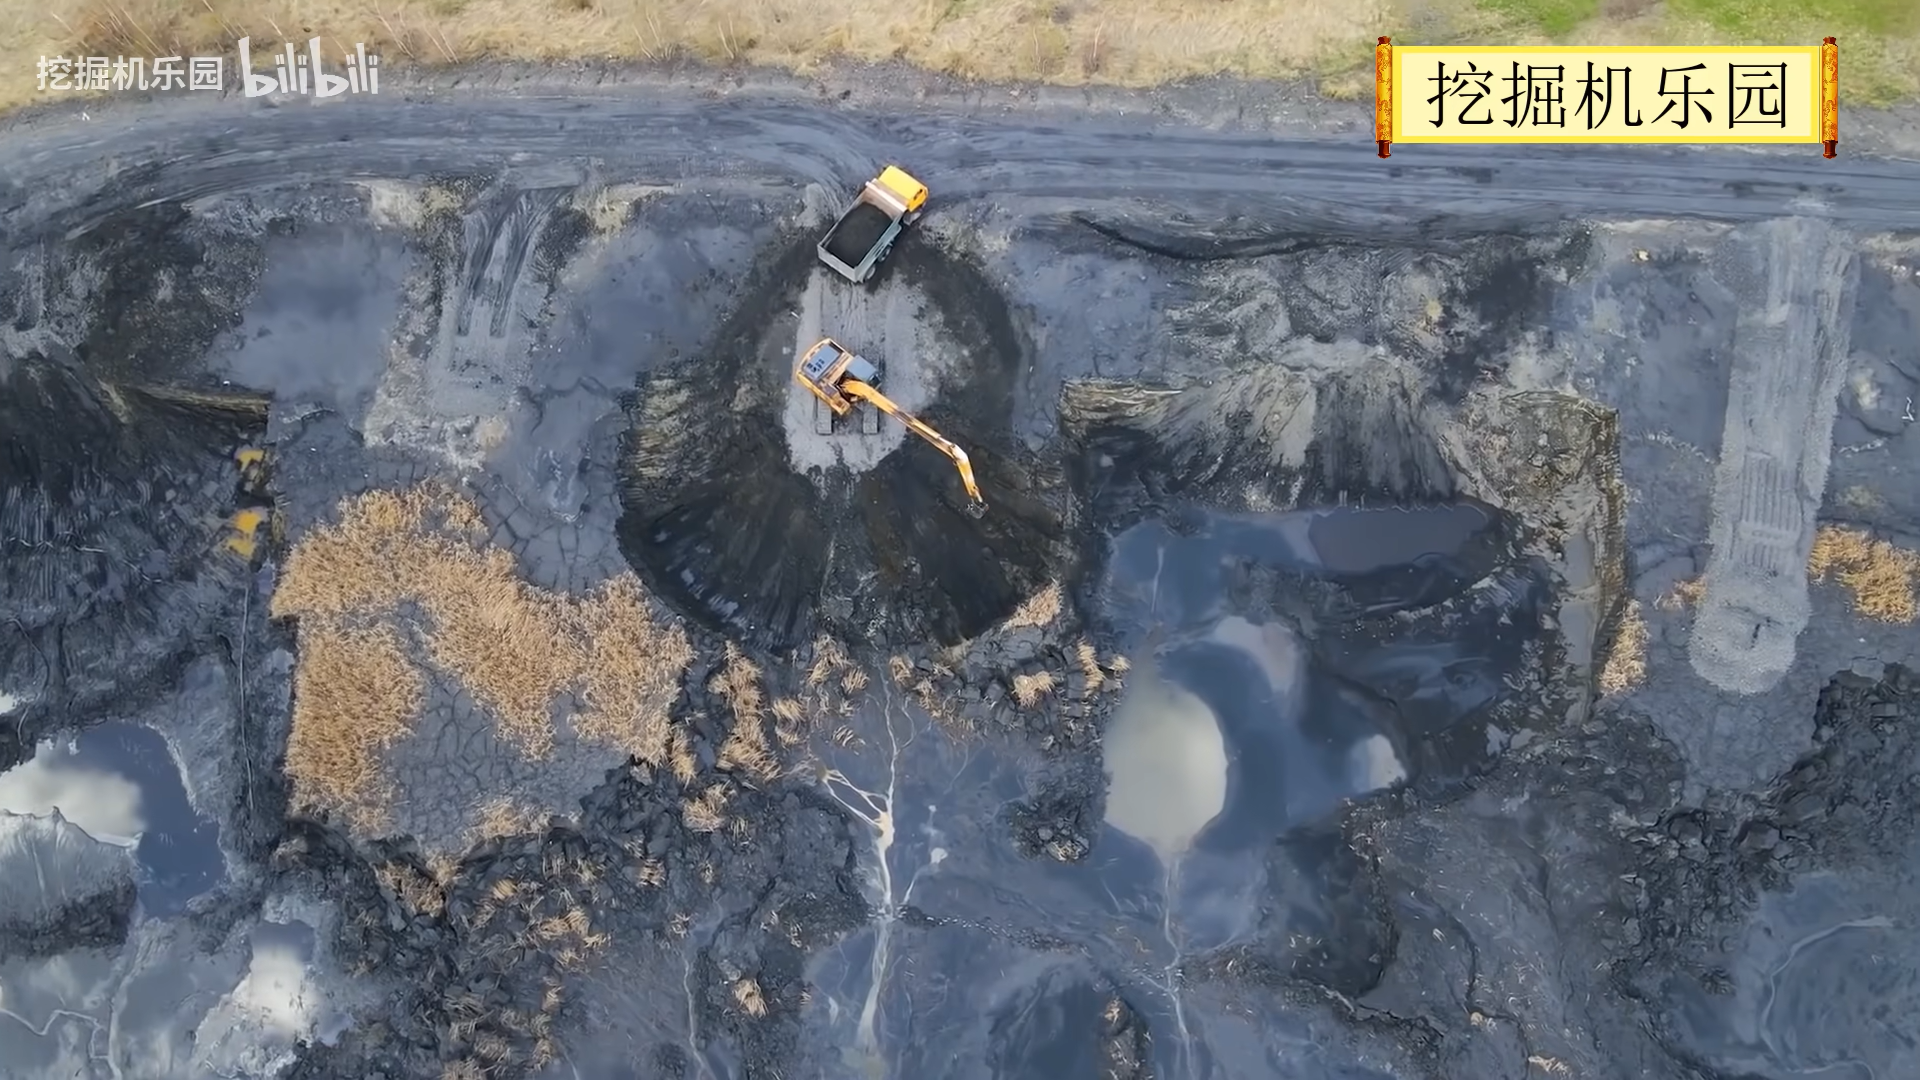excavator: (785, 334, 1005, 534)
